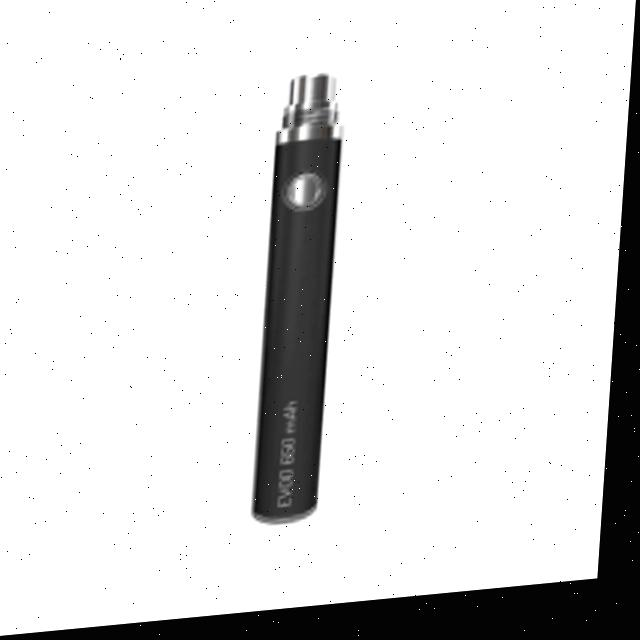vape: (255, 79, 350, 535)
